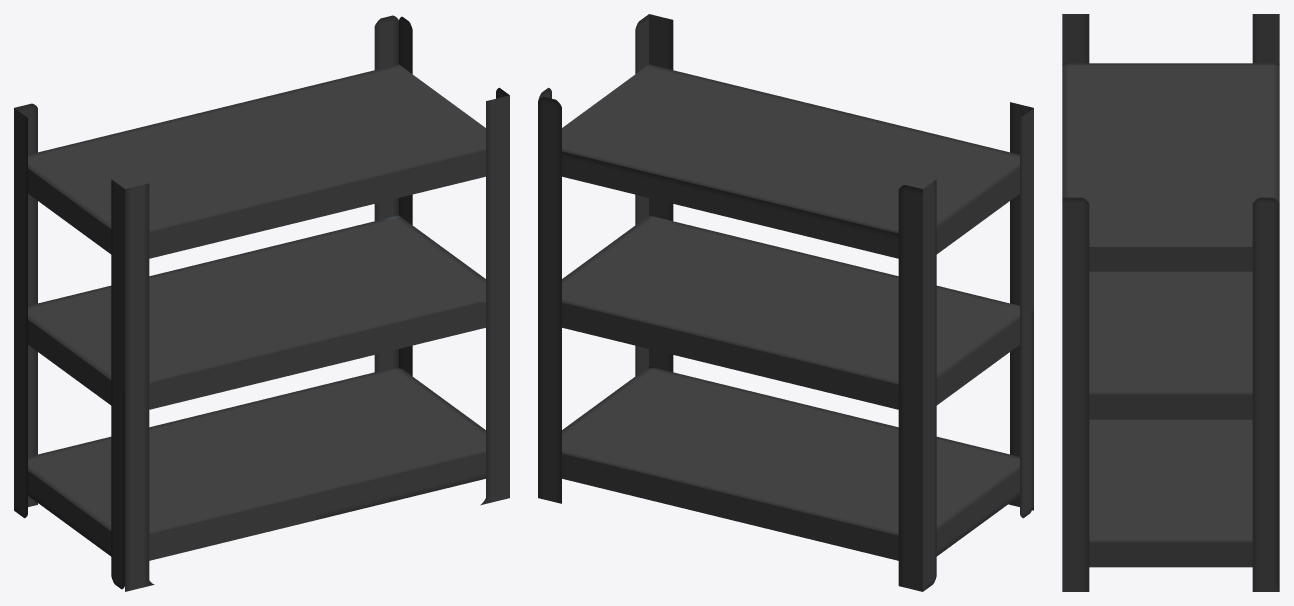
Rendered from shelf1.fbx.
3 renders of one model, left to right at view 1: azimuth 30°, elevation 25°; view 2: azimuth 150°, elevation 25°; view 3: azimuth 270°, elevation 25°, orthographic. The views are drawn at different scales.
Visible parts, largest first — view 1: shelf_1, shelf_2, shelf_3, legs; view 2: shelf_1, shelf_2, shelf_3, legs; view 3: shelf_1, legs, shelf_2, shelf_3.
Boxes of the visible parts, x1=… form: shelf_1: x1=28, y1=64, x2=485, y2=258; shelf_2: x1=28, y1=215, x2=485, y2=409; shelf_3: x1=28, y1=366, x2=485, y2=560; legs: x1=14, y1=15, x2=509, y2=591; shelf_1: x1=562, y1=64, x2=1019, y2=258; shelf_2: x1=562, y1=215, x2=1019, y2=409; shelf_3: x1=562, y1=366, x2=1019, y2=560; legs: x1=538, y1=14, x2=1033, y2=591; shelf_1: x1=1062, y1=63, x2=1279, y2=271; legs: x1=1062, y1=14, x2=1279, y2=591; shelf_2: x1=1089, y1=271, x2=1252, y2=419; shelf_3: x1=1089, y1=419, x2=1252, y2=567.
Bounding box in the file's own units: 200 × 200 × 100.
